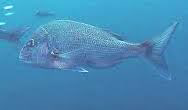tai: (16, 11, 174, 83)
